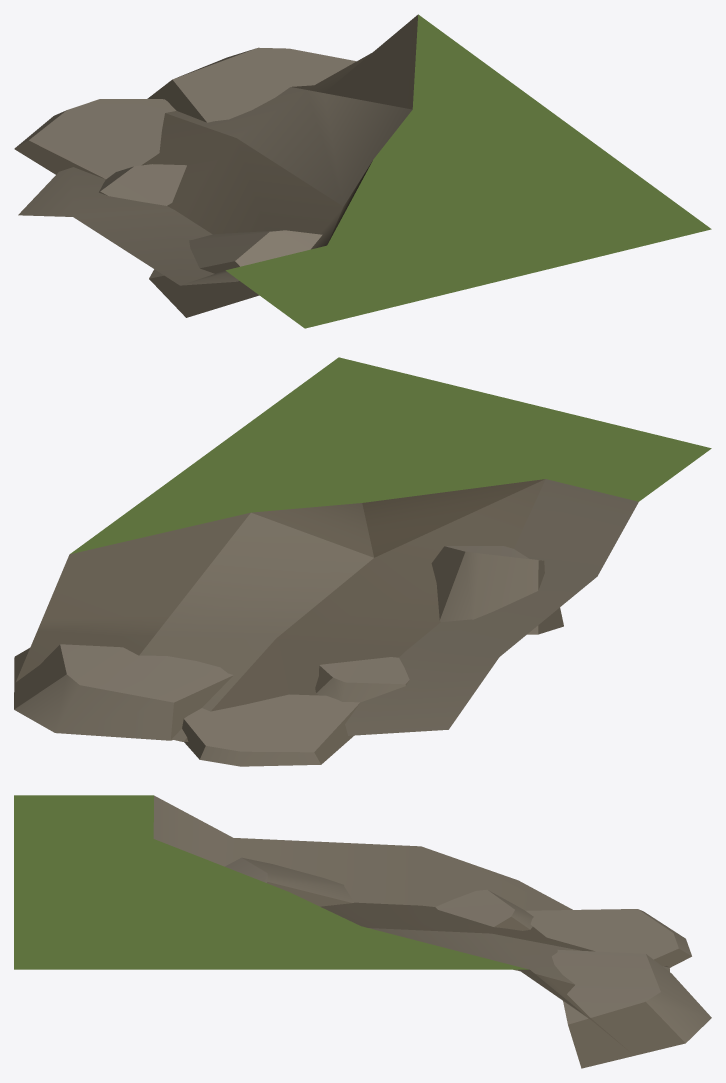
Rendered from SF_Env_River_Slope_01.fbx.
The picture shows the model from 3 angles, top to bottom: view 1: azimuth 30°, elevation 25°; view 2: azimuth 150°, elevation 25°; view 3: azimuth 270°, elevation 25°; orthographic projection. The views are drawn at different scales.
Parts seen in each view (by area): view 1: SF_Env_River_Slope_01; view 2: SF_Env_River_Slope_01; view 3: SF_Env_River_Slope_01.
Boxes of the visible parts, x1,y1,x2,y2 form: SF_Env_River_Slope_01: (14,14,711,328); SF_Env_River_Slope_01: (14,357,711,766); SF_Env_River_Slope_01: (14,795,711,1068).
Bounding box in the file's own units: 10.75 × 2.33 × 16.91.
